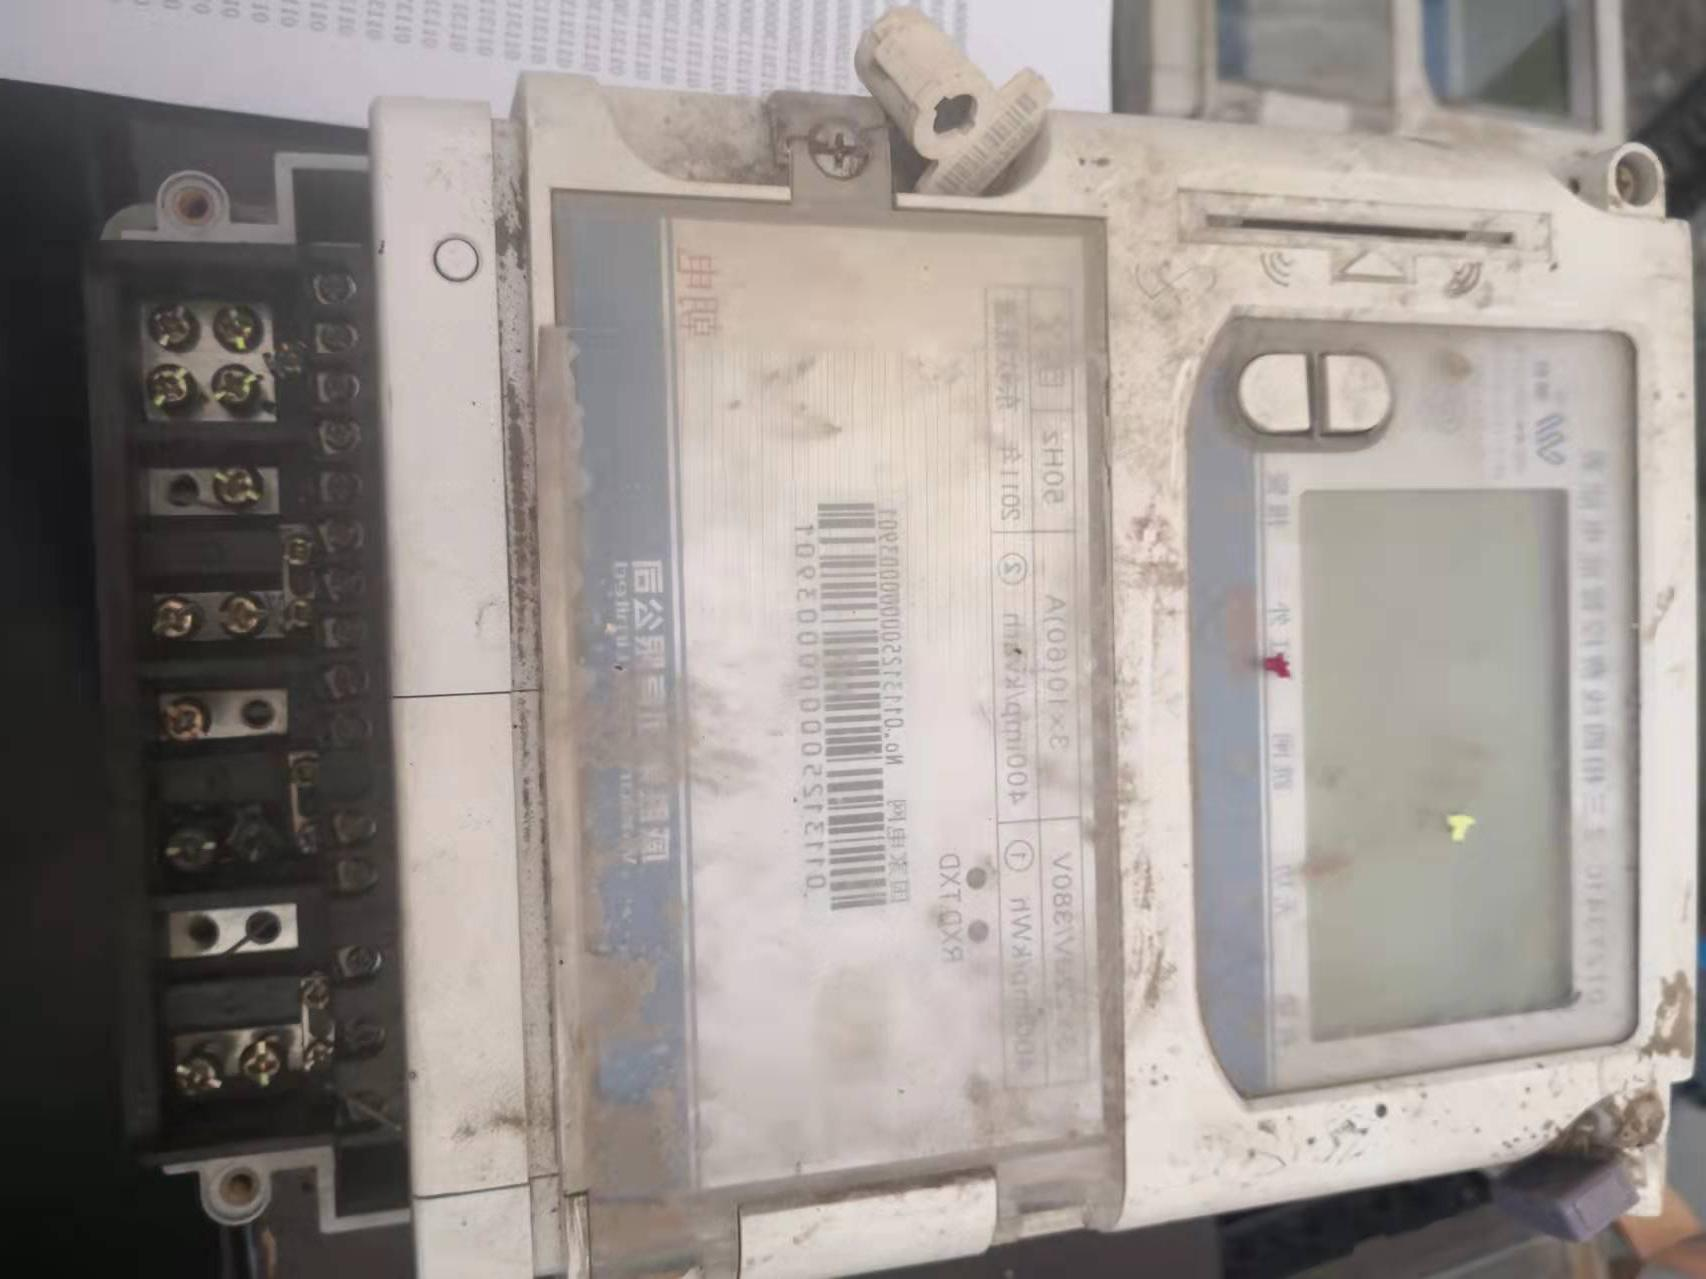digital: (516, 64, 1698, 1279)
